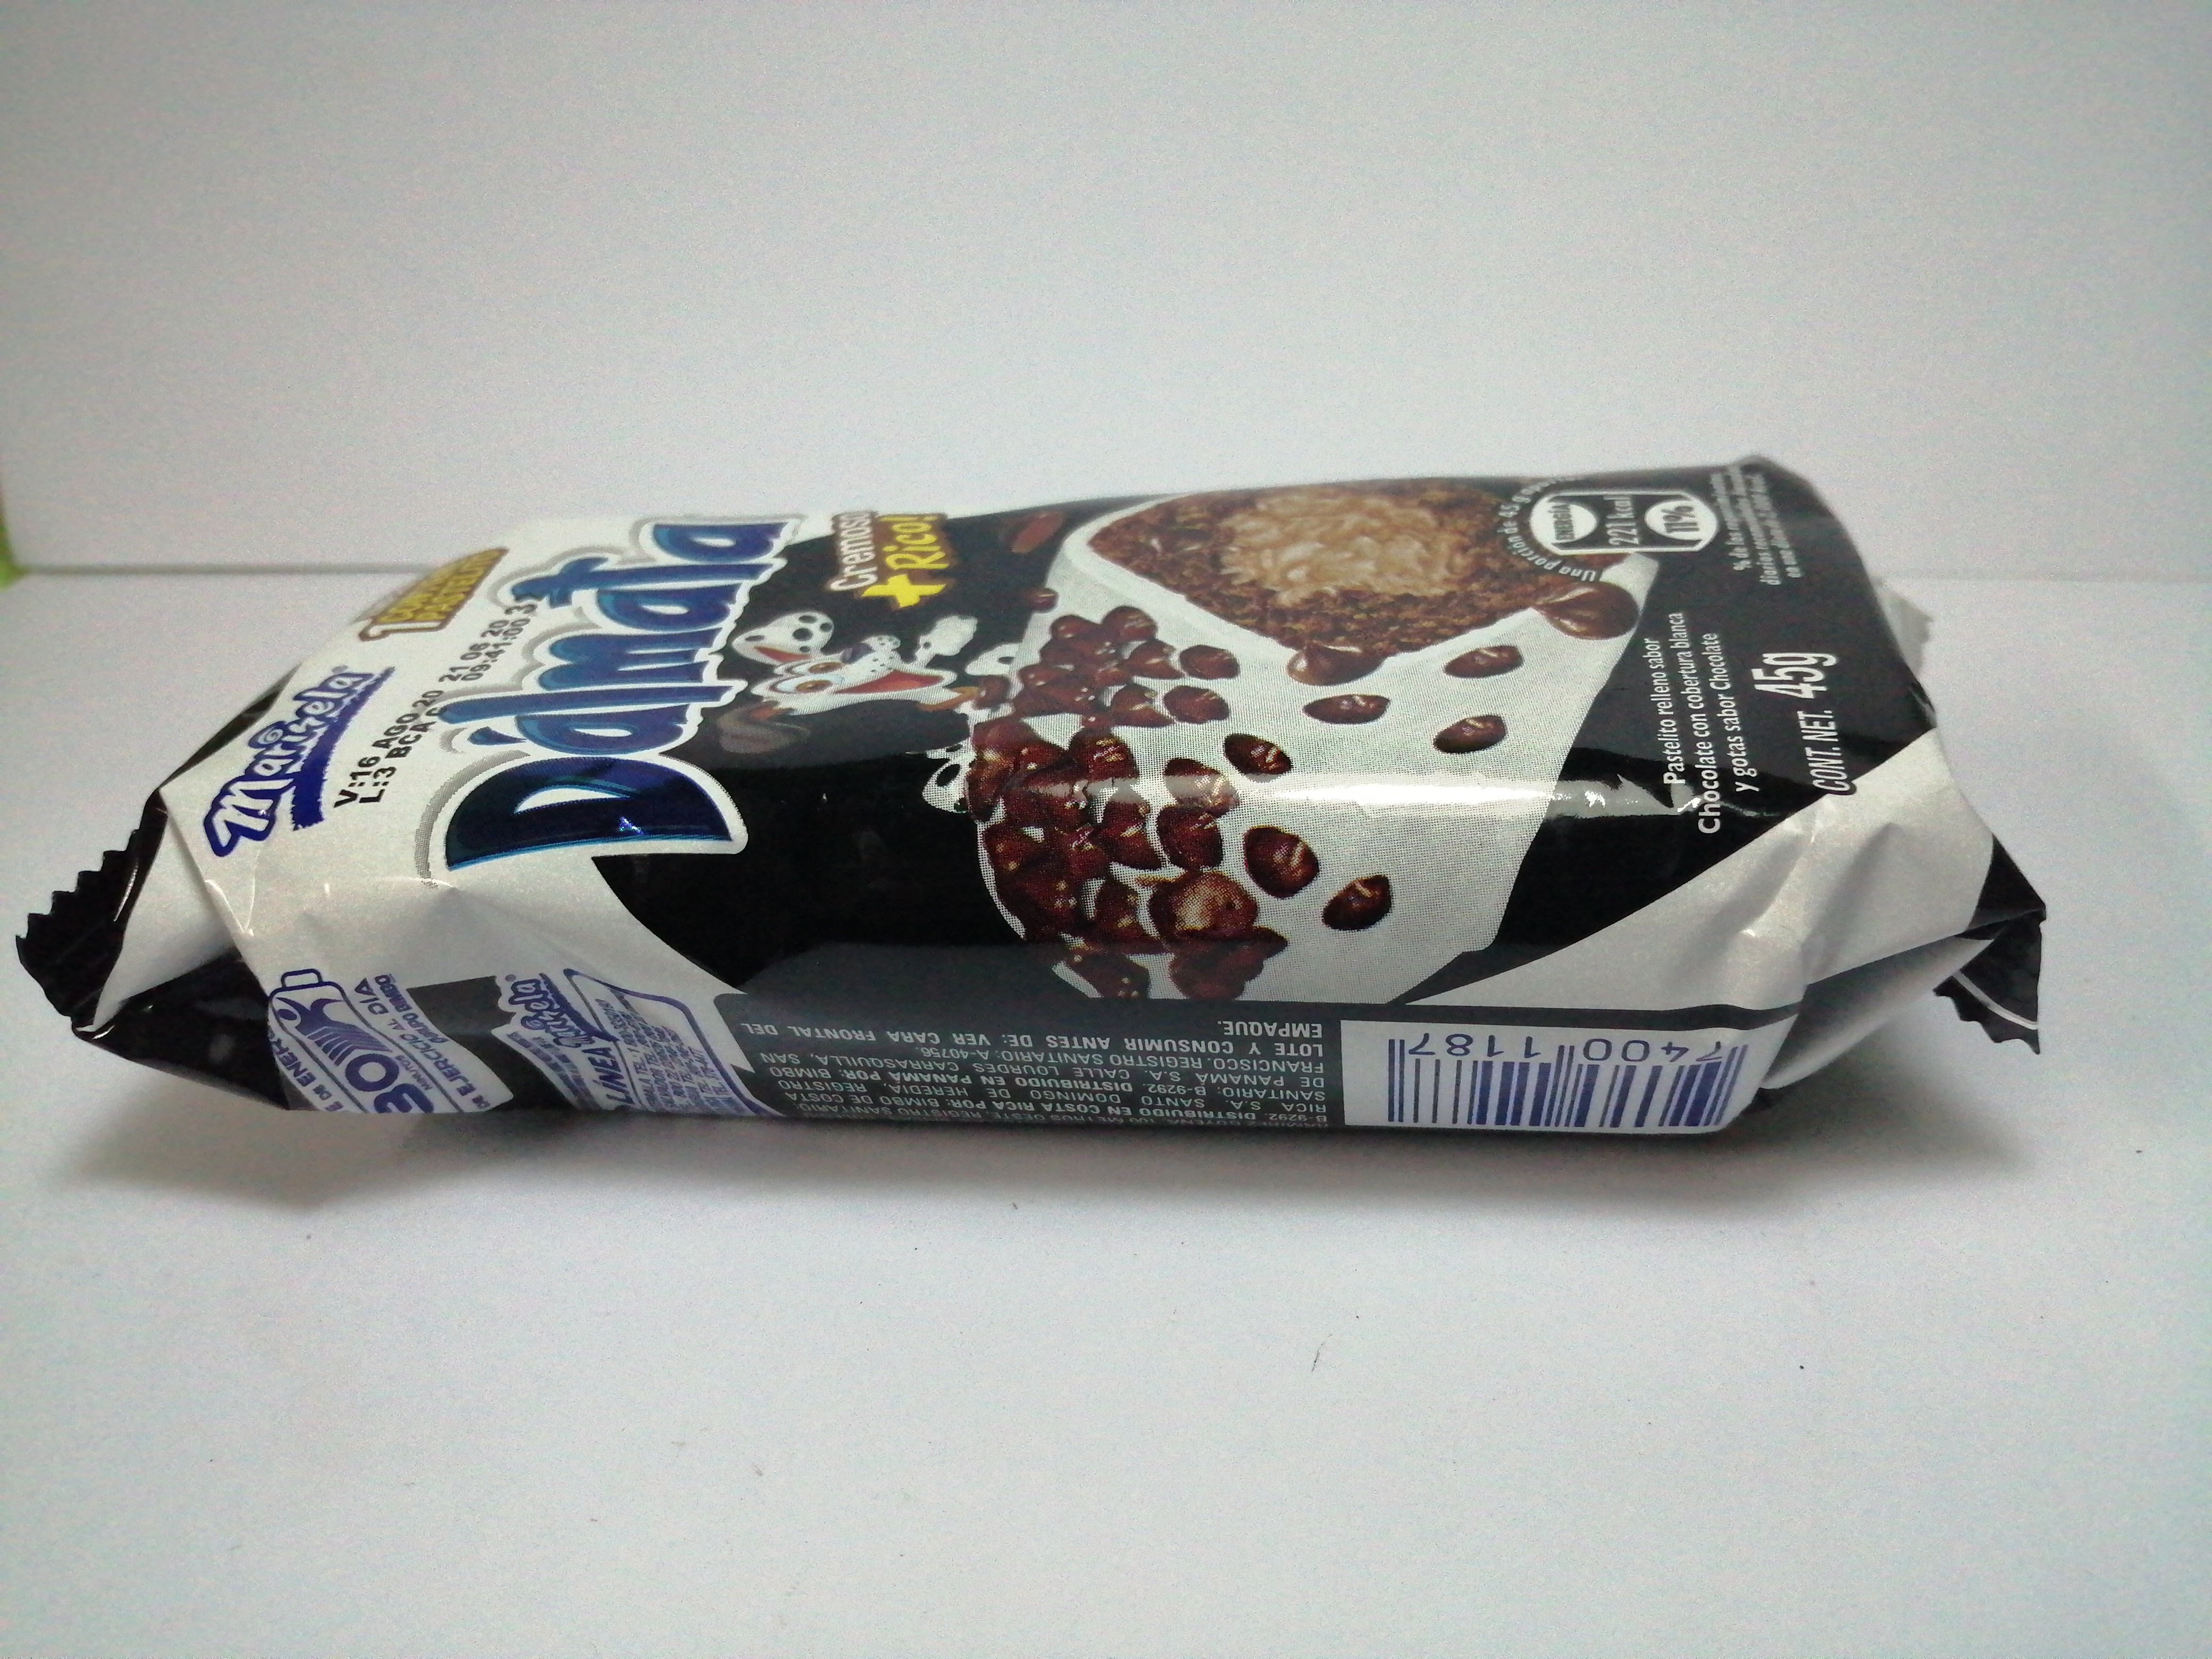dalmata: (28, 425, 2088, 1171)
